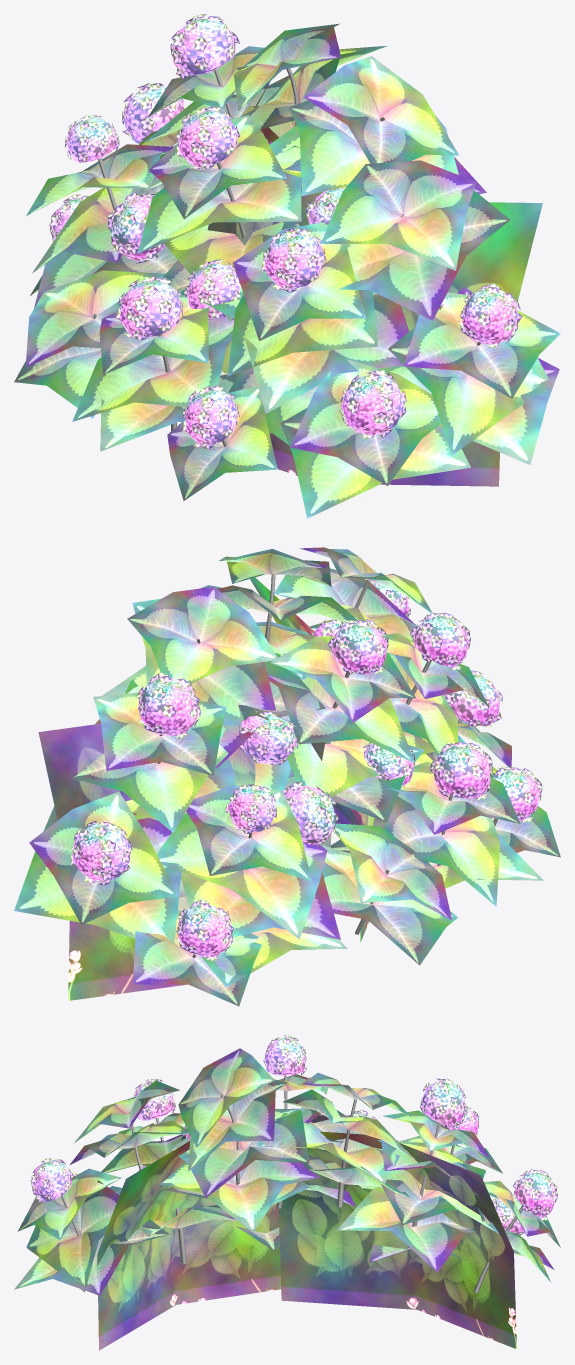
File: hydrangea_wall_SM.fbx
3 views of the same model, one above another, from view 1: azimuth 30°, elevation 25°; view 2: azimuth 150°, elevation 25°; view 3: azimuth 270°, elevation 25° (orthographic). The views are drawn at different scales.
Parts seen in each view (by area): view 1: hydrangea_wall_SM_LOD0; view 2: hydrangea_wall_SM_LOD0; view 3: hydrangea_wall_SM_LOD0.
Boxes of the visible parts, x1,y1,x2,y2 form: hydrangea_wall_SM_LOD0: (14,14,560,518); hydrangea_wall_SM_LOD0: (14,547,560,1006); hydrangea_wall_SM_LOD0: (14,1035,560,1350).
Size of the model in its own units: 334 by 527 by 296.
3 materials, 2 textured.
